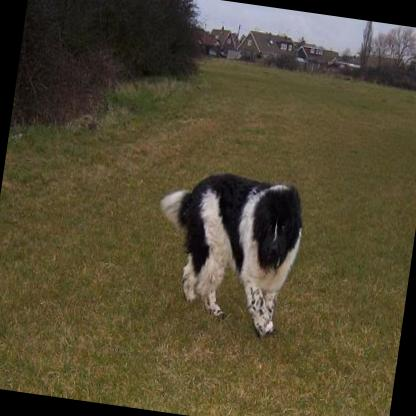Newfoundland: (143, 161, 307, 337)
